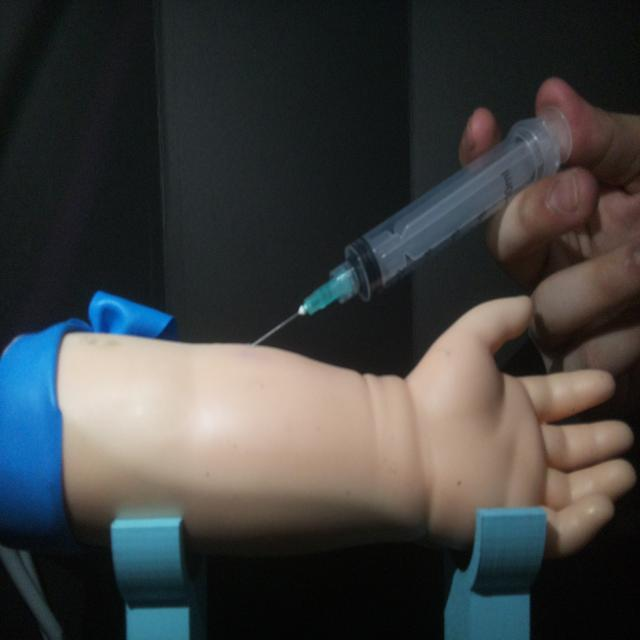26deg: (245, 100, 576, 350)
